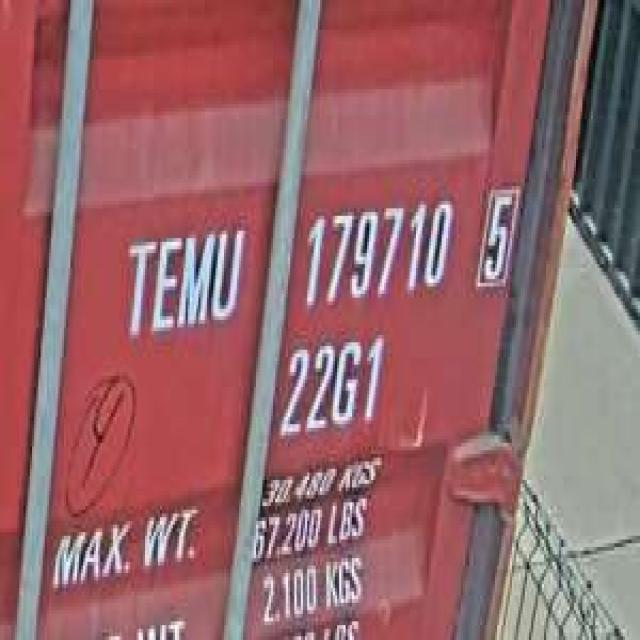dv: (472, 171, 520, 298)
owner: (118, 216, 248, 342)
serial: (296, 186, 454, 313)
size: (277, 331, 388, 443)
